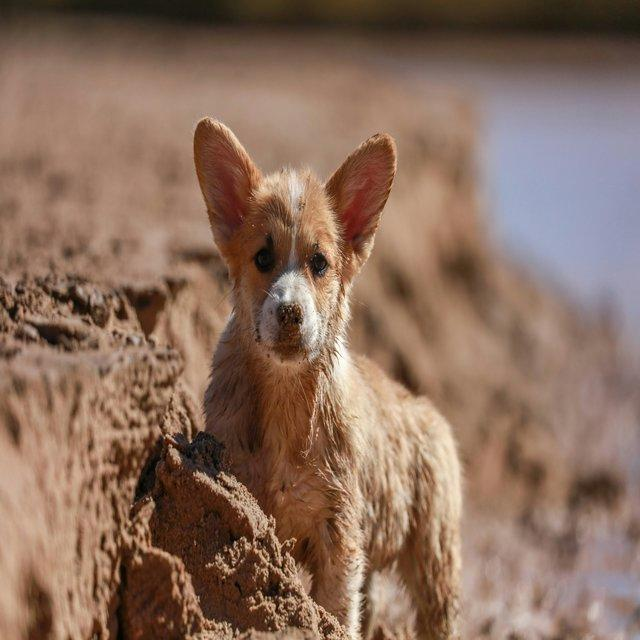corgi: (192, 115, 465, 638)
